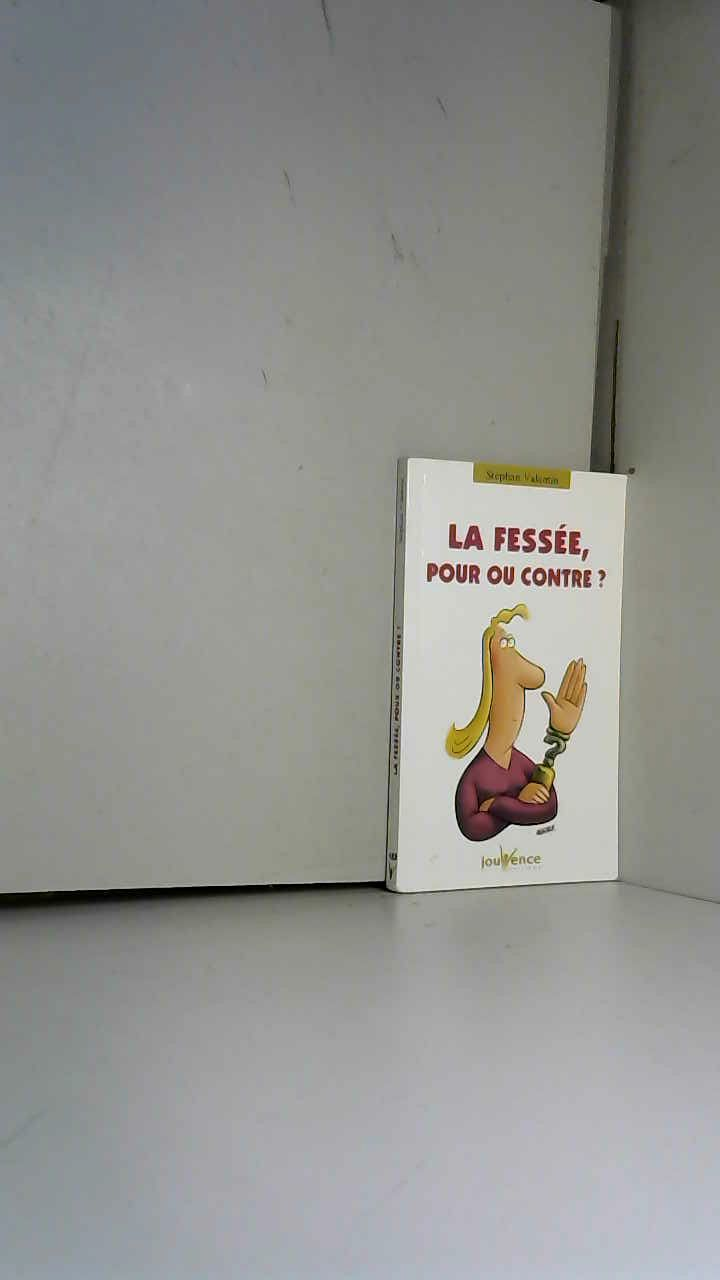book: (376, 440, 639, 914)
